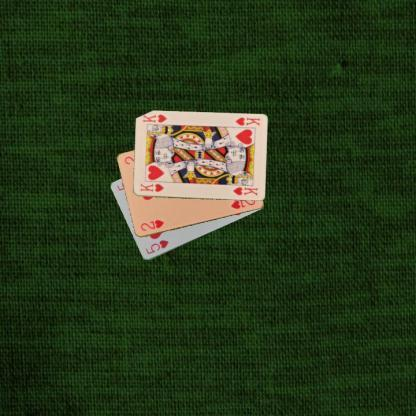2h: (138, 218, 166, 232)
5h: (143, 237, 170, 256)
Kh: (232, 115, 261, 127), (138, 181, 166, 193)
